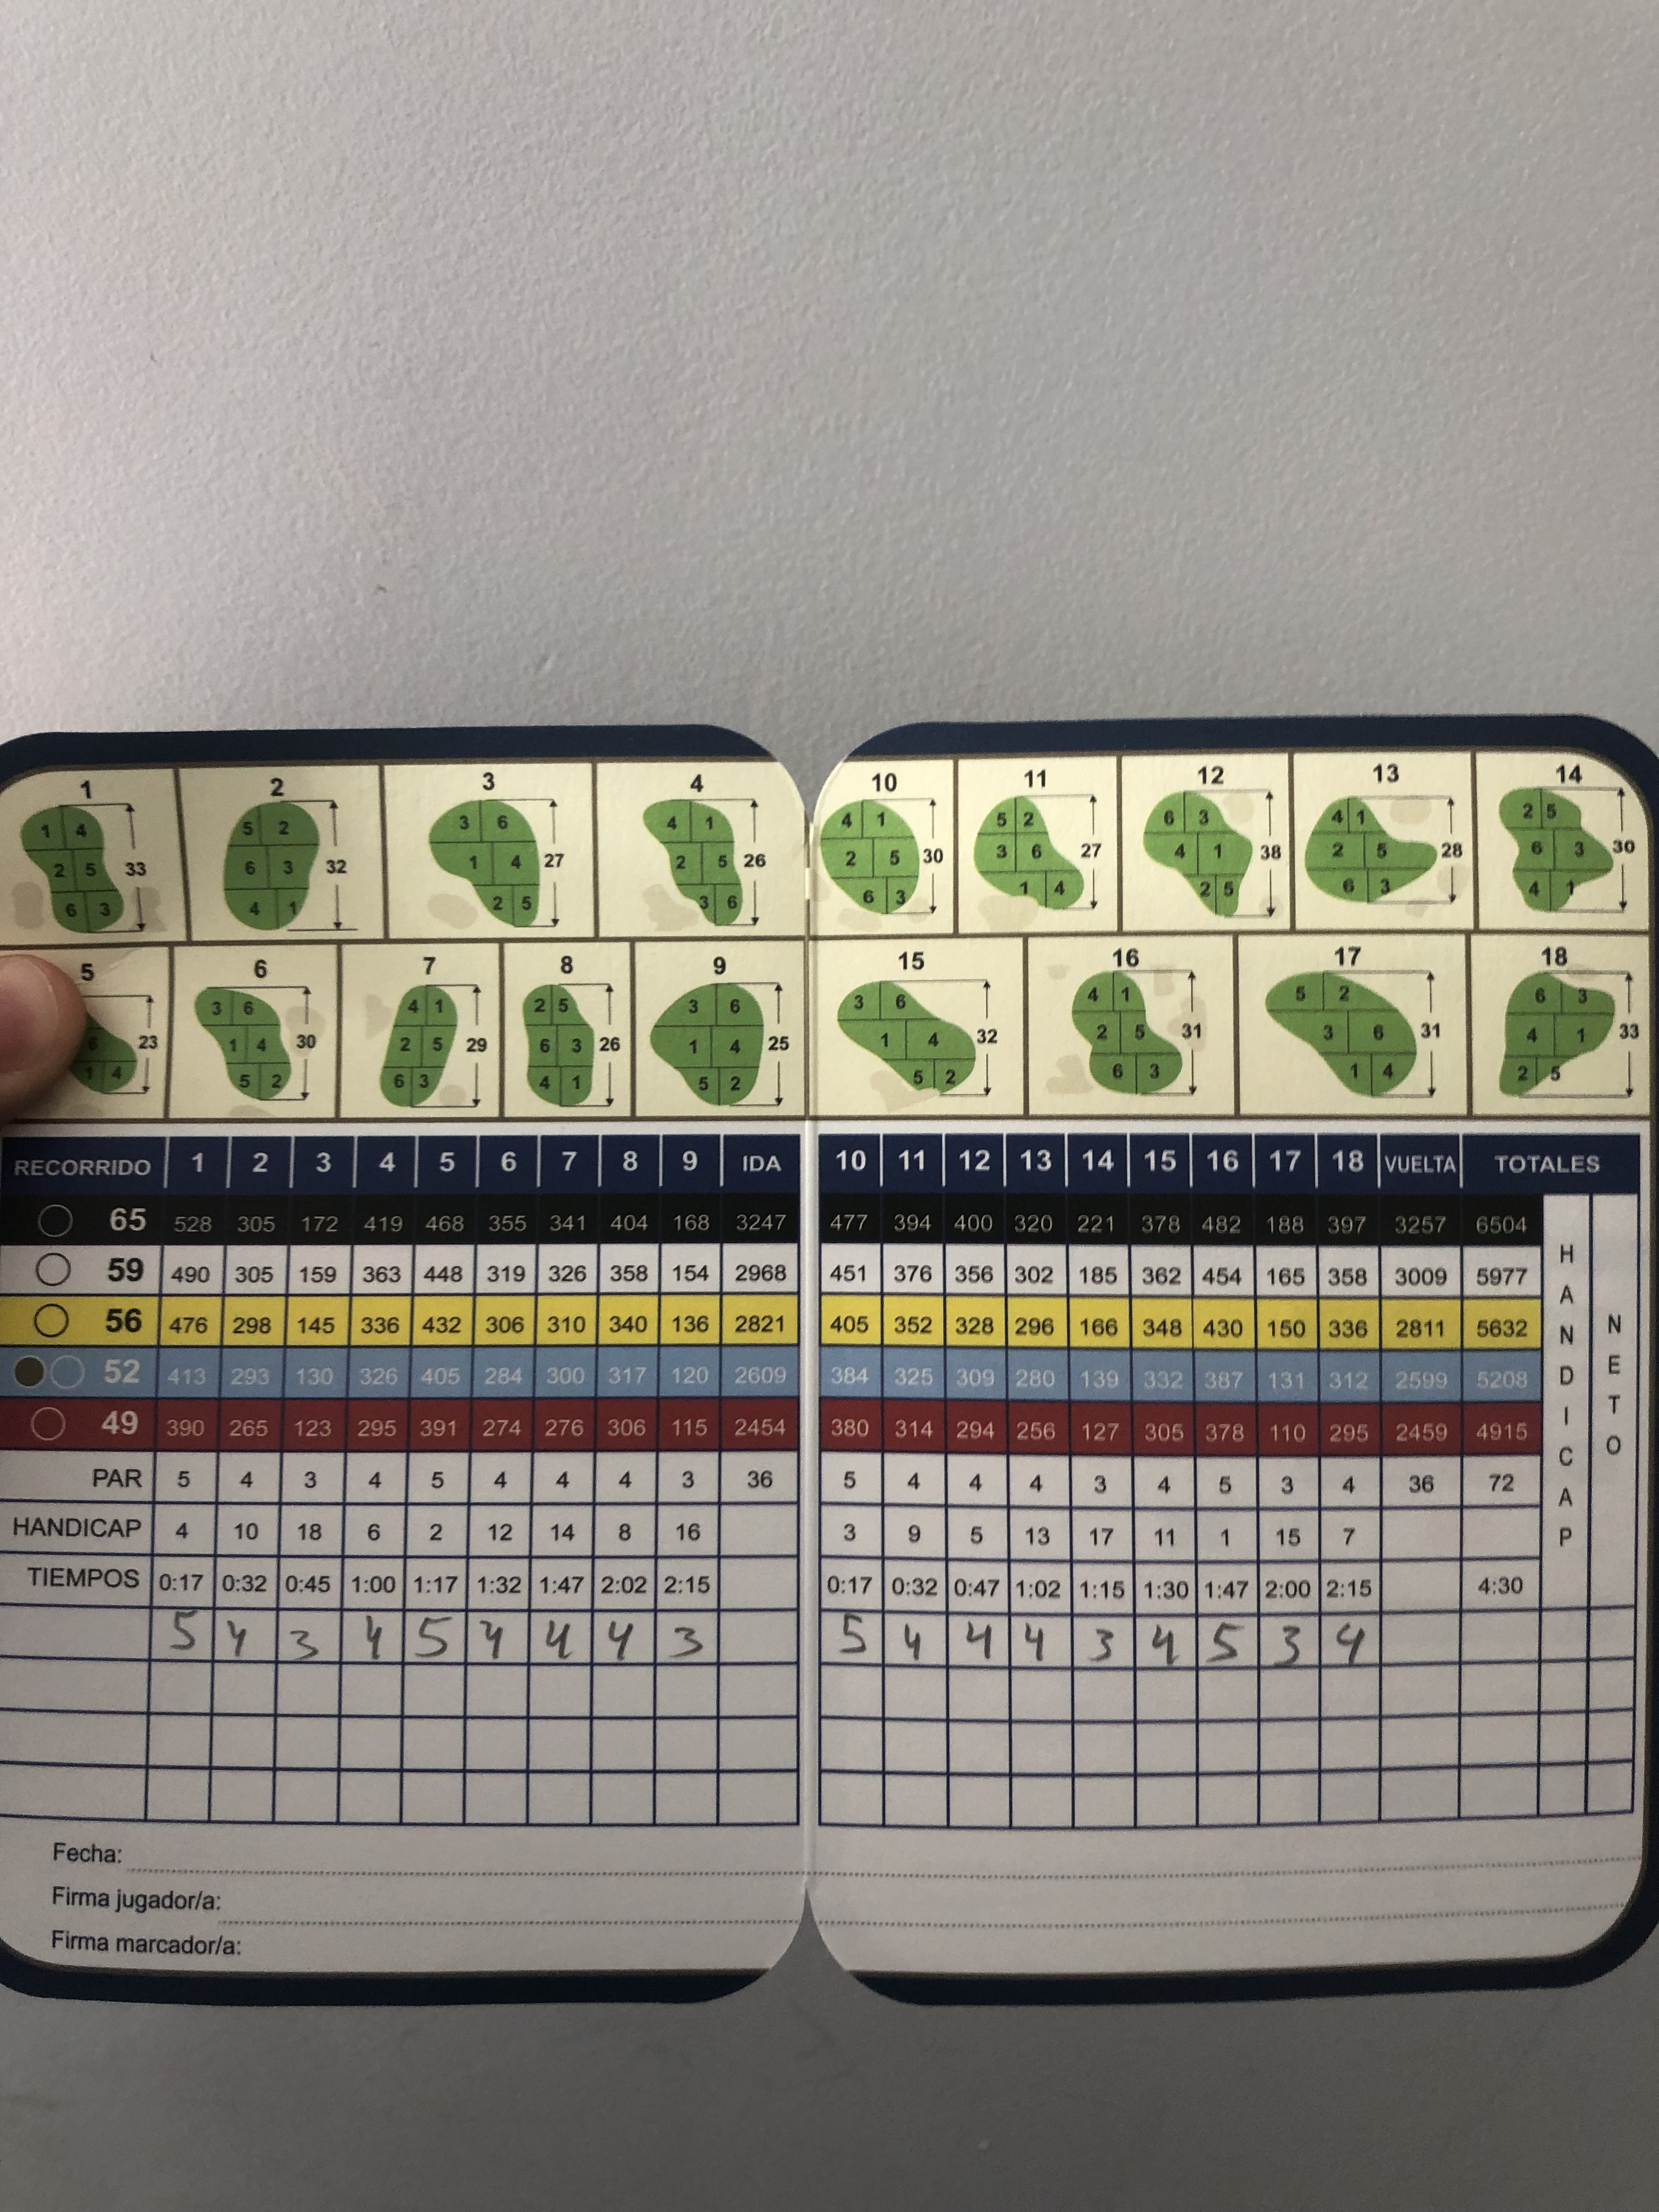par: (85, 1456, 1537, 1510)
score: (153, 1608, 1385, 1663)
